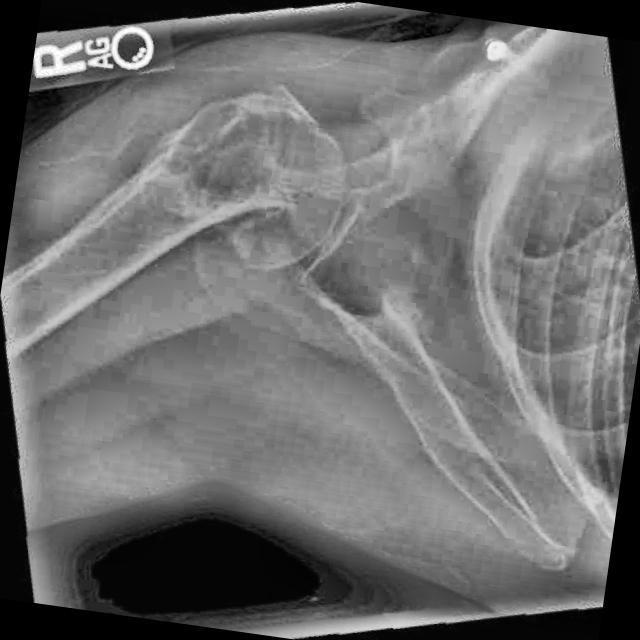shoulder fracture: (194, 172, 308, 244)
